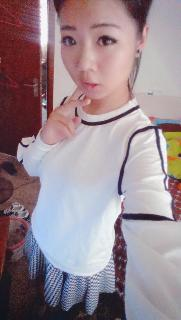long sleeve top: (16, 90, 181, 320)
skirt: (23, 219, 115, 315)
